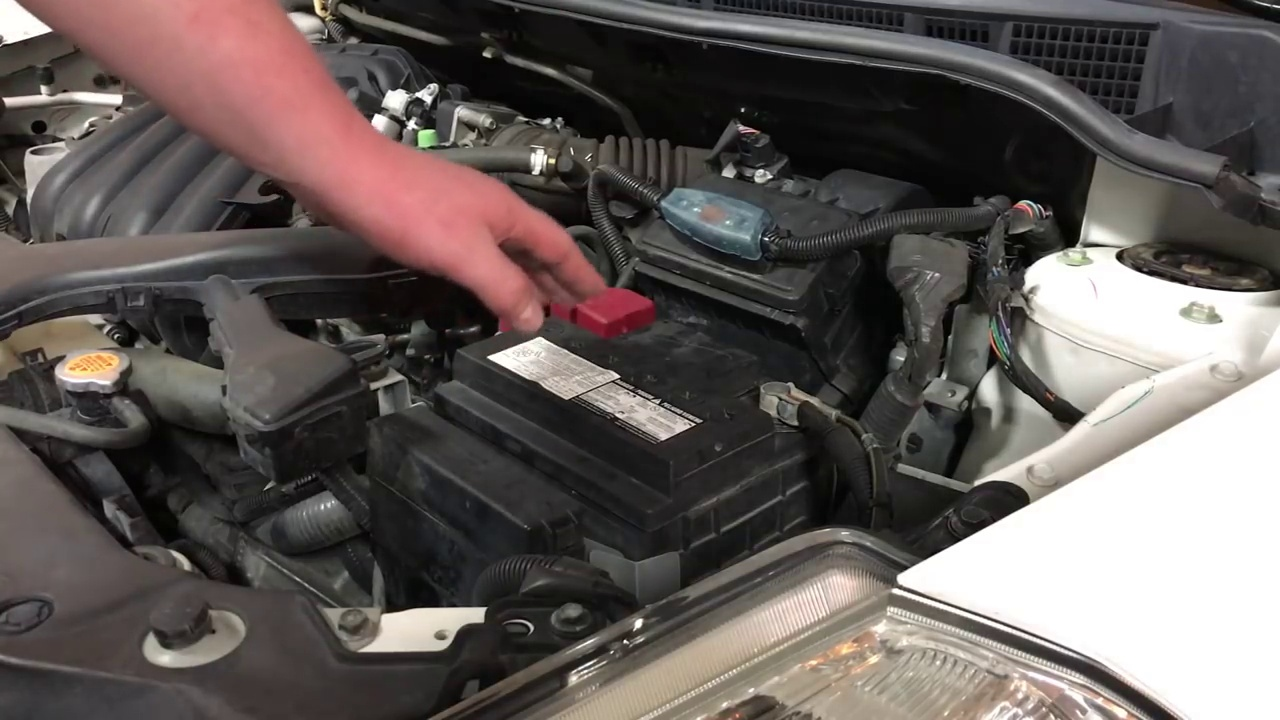battery: (452, 291, 844, 478)
neg_connected: (738, 358, 862, 455)
pos_touched: (486, 250, 664, 355)
